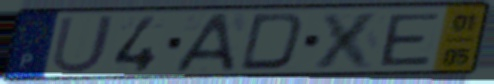4: (110, 13, 160, 74)
A: (171, 11, 238, 75)
D: (235, 11, 308, 72)
E: (378, 11, 443, 68)
U: (48, 13, 119, 76)
X: (309, 10, 386, 70)
